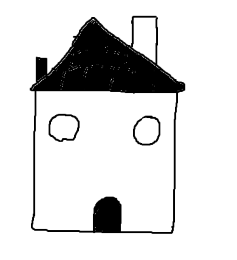chimney: (126, 13, 165, 66), (22, 51, 55, 85)
door: (84, 191, 130, 234)
open_window: (120, 112, 177, 151), (41, 109, 87, 147)
shaded_roof: (27, 17, 192, 96)
wall: (26, 87, 191, 240)
